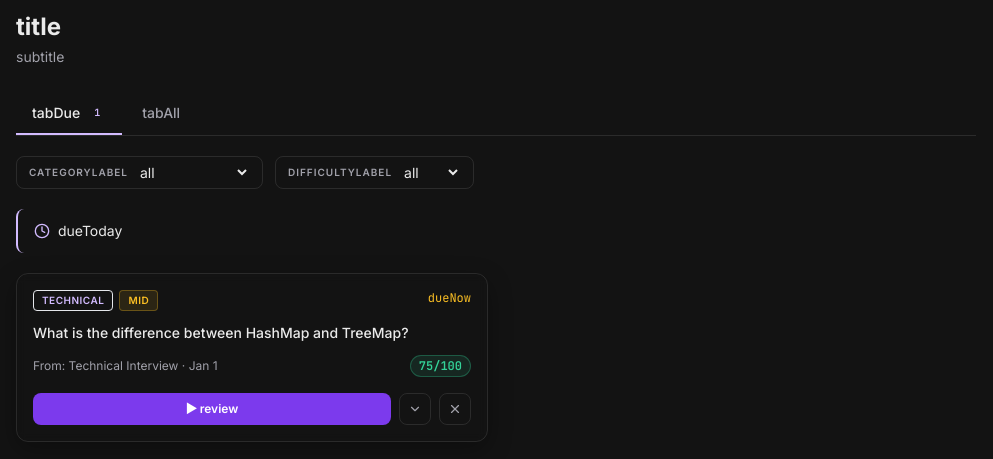
BookmarksClient — noMatches empty state › shows noMatches when filters produce no results
The image size is (993, 459).
Step 1. Click the button "tabAll" → {"x": 161, "y": 113}, box [126,93,196,133]
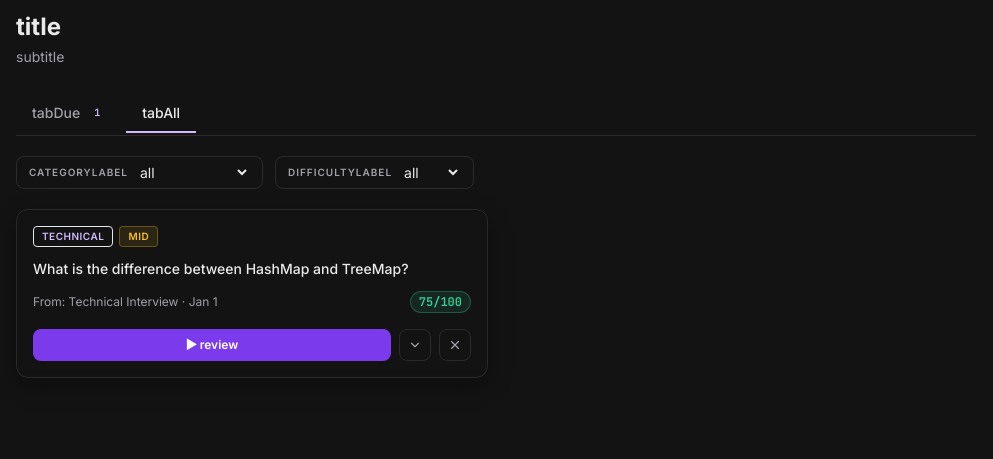
Step 2. Select "behavioral" in the dropdown next to "categoryLabel" → {"x": 193, "y": 172}, box [136,163,250,182]
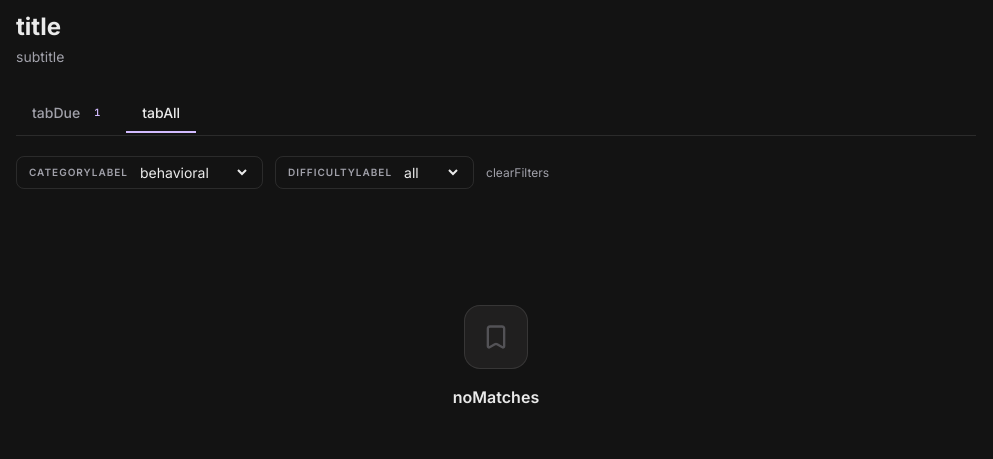
Expected: the text "noMatches" is shown, [453,385,539,409]
